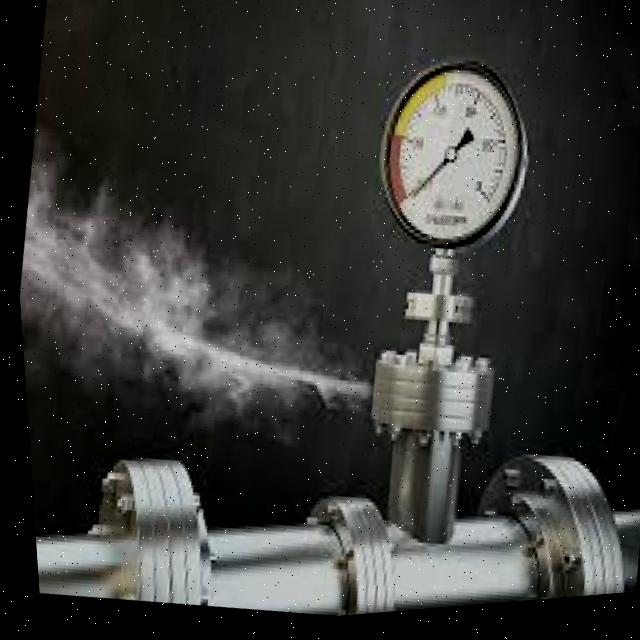corrosion: (296, 292, 455, 467)
